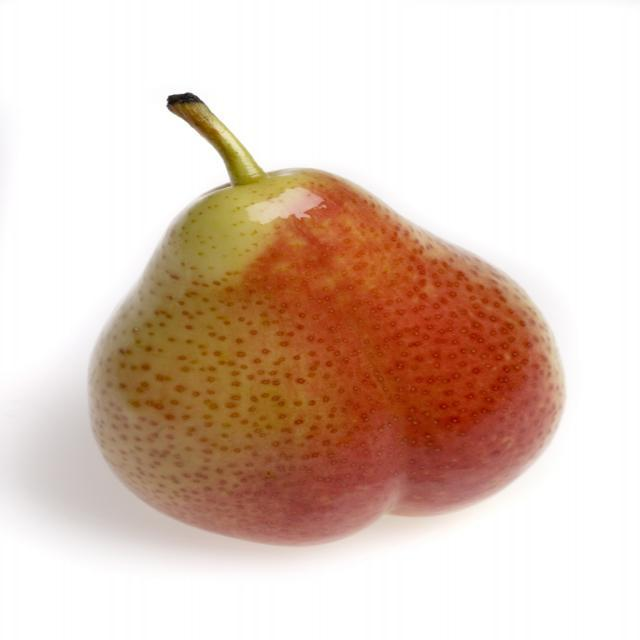Pear: (86, 166, 564, 546)
